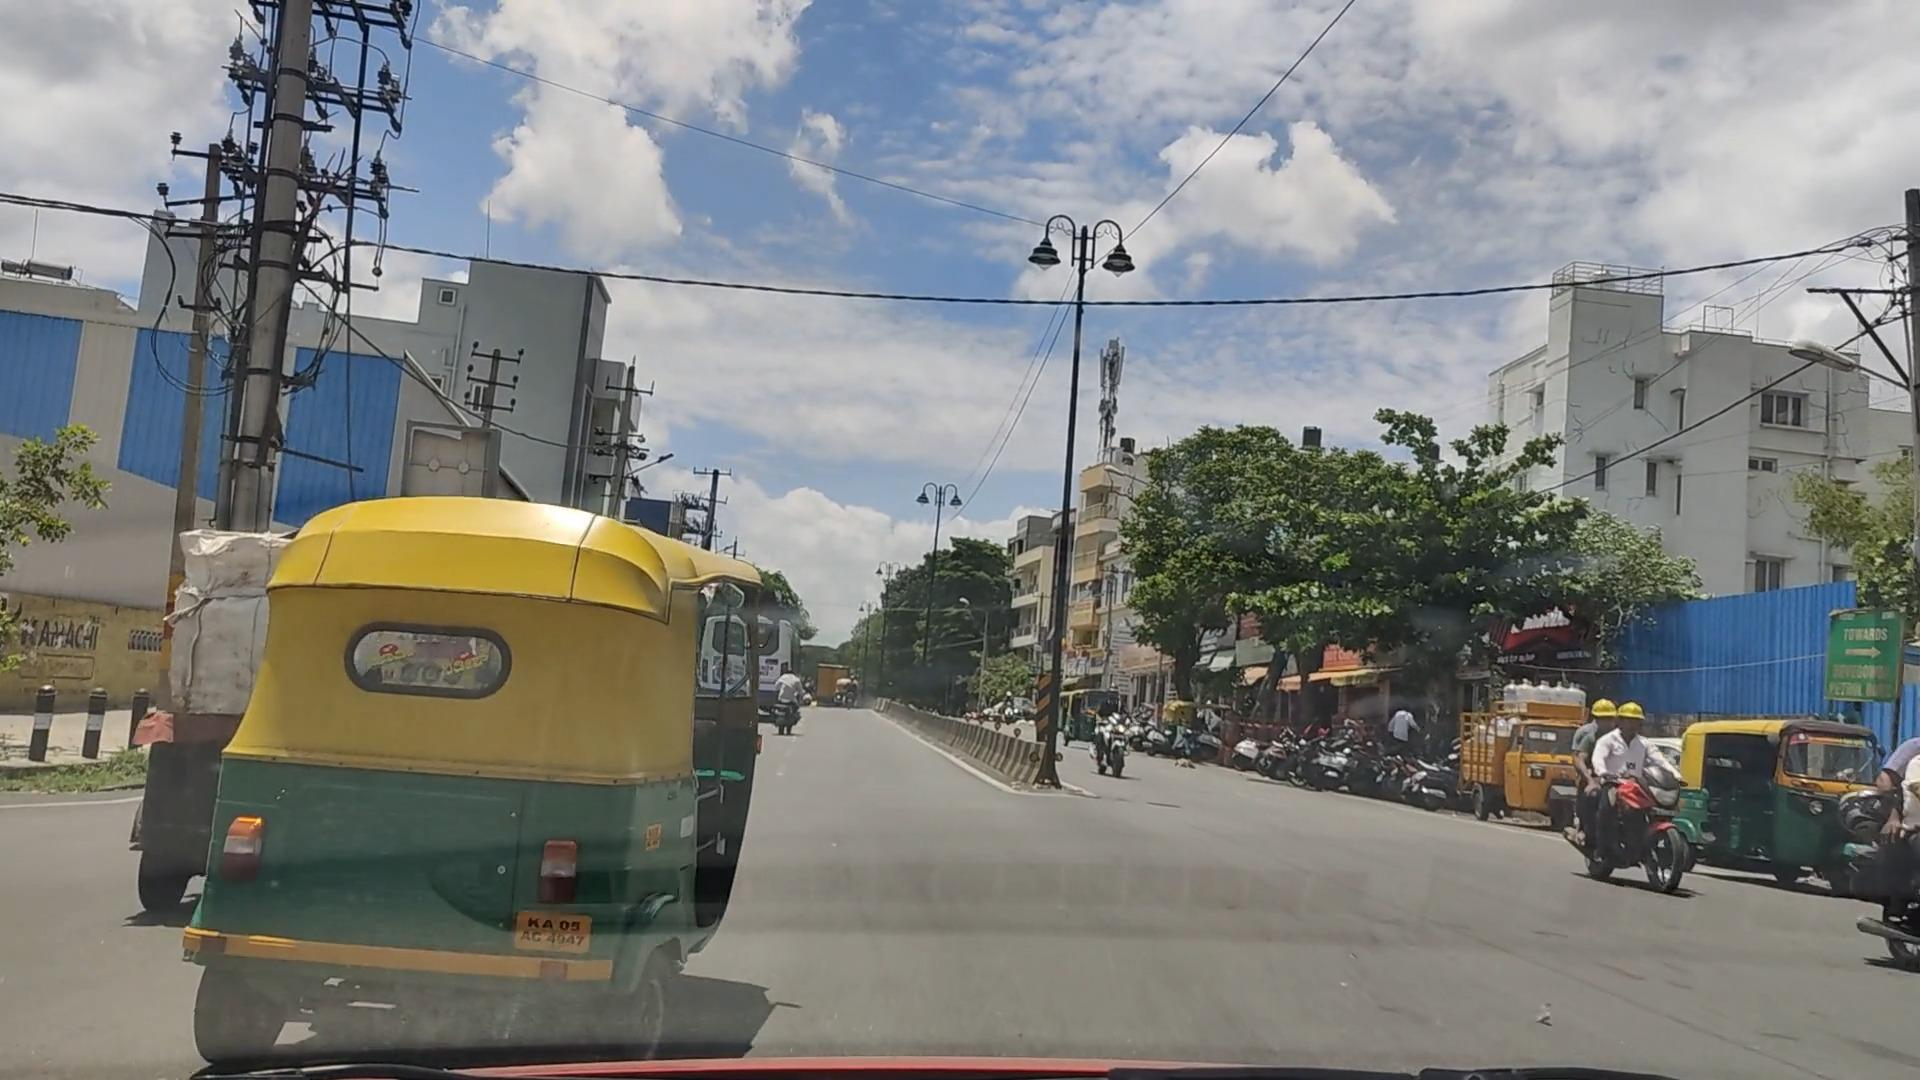LMV: (276, 521, 748, 1080)
